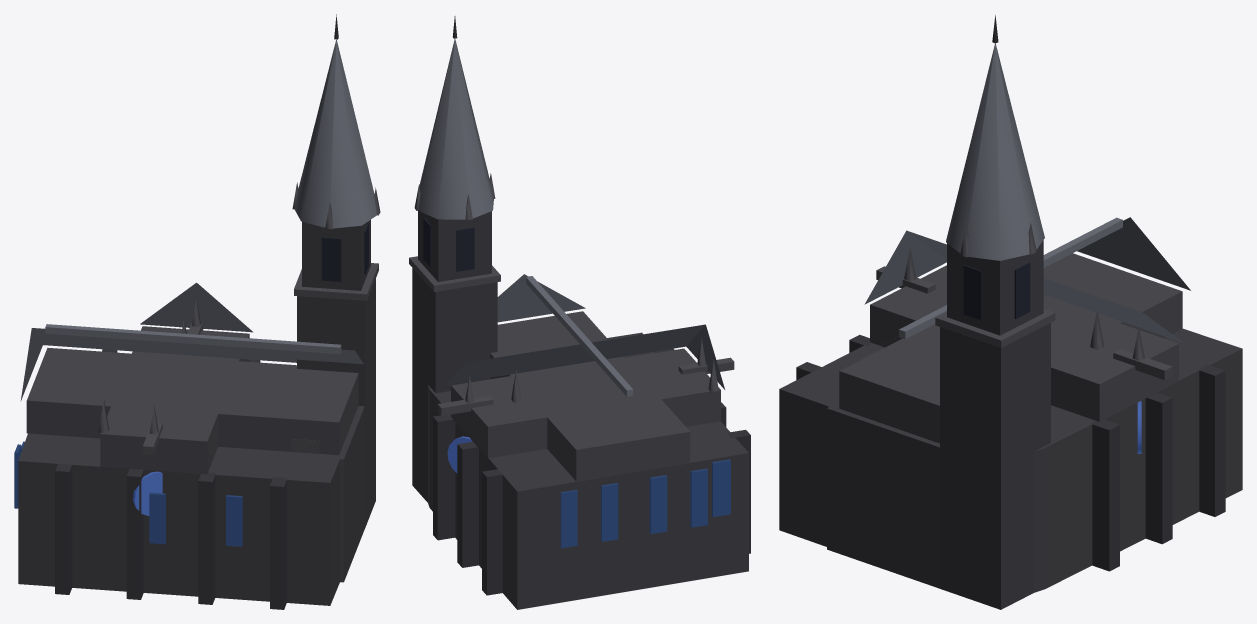
File: eglise-2.glb
The picture shows the model from 3 angles, left to right: view 1: azimuth 30°, elevation 25°; view 2: azimuth 150°, elevation 25°; view 3: azimuth 270°, elevation 25°; orthographic projection. The views are drawn at different scales.
Parts seen in each view (by area): view 1: Église Sainte-Thérèse (pierre de Volvic noire), Clermont-Fer; view 2: Église Sainte-Thérèse (pierre de Volvic noire), Clermont-Fer; view 3: Église Sainte-Thérèse (pierre de Volvic noire), Clermont-Fer.
Boxes of the visible parts, left/top/right/bottom form: Église Sainte-Thérèse (pierre de Volvic noire), Clermont-Fer: left=14, top=14, right=380, bottom=609; Église Sainte-Thérèse (pierre de Volvic noire), Clermont-Fer: left=409, top=16, right=750, bottom=609; Église Sainte-Thérèse (pierre de Volvic noire), Clermont-Fer: left=779, top=15, right=1242, bottom=609.
Bounding box in the file's own units: 22.79 × 30.4 × 22.3.
